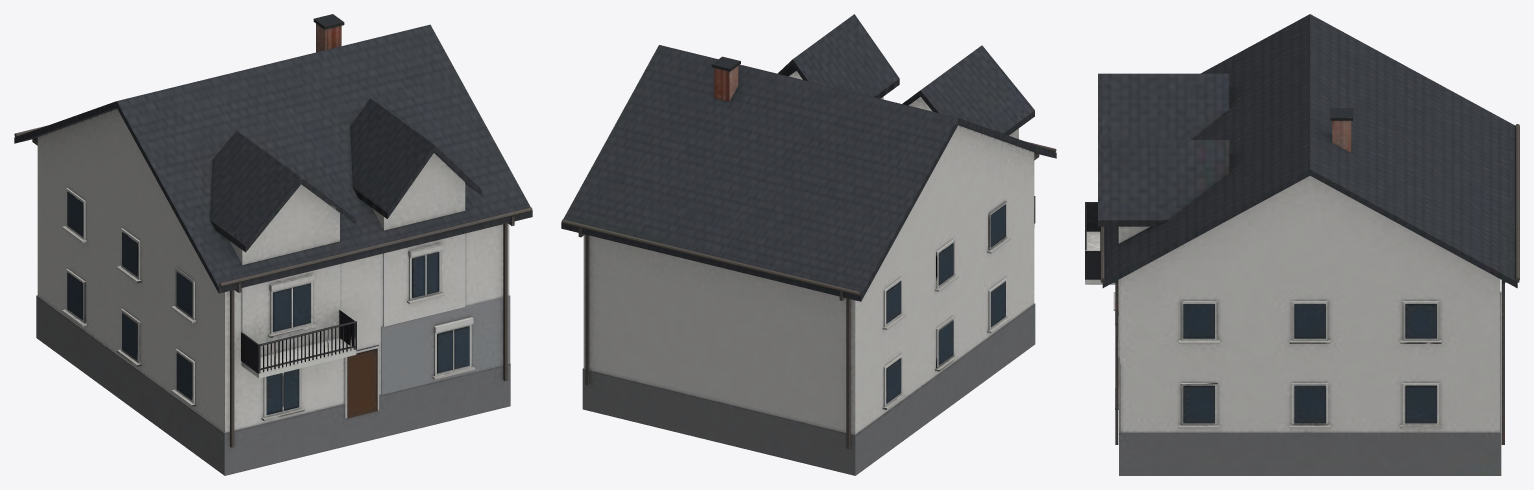
File: dom_w159.glb
The picture shows the model from 3 angles, left to right: view 1: azimuth 30°, elevation 25°; view 2: azimuth 150°, elevation 25°; view 3: azimuth 270°, elevation 25°; orthographic projection. The views are drawn at different scales.
Visible parts, largest first — view 1: dom_w159; view 2: dom_w159; view 3: dom_w159.
Part boxes in pixels (bbox=[...]): dom_w159: bbox=[14, 14, 532, 475]; dom_w159: bbox=[561, 14, 1056, 475]; dom_w159: bbox=[1085, 14, 1519, 475].
Bounding box in the file's own units: 11.6 × 11.4 × 13.72.
Materials: 1 (1 with a texture image).
